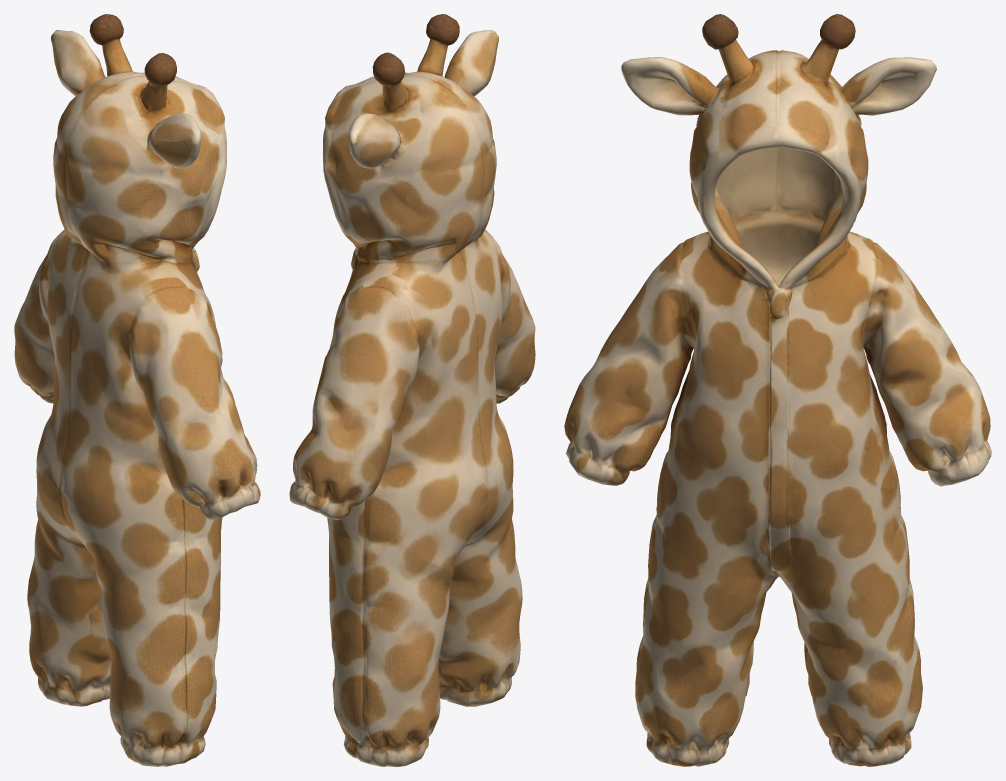
Rendered from kigurumi.glb.
3 views of the same model, side by side, from view 1: azimuth 30°, elevation 25°; view 2: azimuth 150°, elevation 25°; view 3: azimuth 270°, elevation 25° (orthographic). The views are drawn at different scales.
Visible parts, largest first — view 1: tripo_node_f7889c48-a6f0-41ac-8ee9-598b0030f9a1; view 2: tripo_node_f7889c48-a6f0-41ac-8ee9-598b0030f9a1; view 3: tripo_node_f7889c48-a6f0-41ac-8ee9-598b0030f9a1.
Part boxes in pixels (x1=…): tripo_node_f7889c48-a6f0-41ac-8ee9-598b0030f9a1: x1=14, y1=14, x2=260, y2=766; tripo_node_f7889c48-a6f0-41ac-8ee9-598b0030f9a1: x1=289, y1=14, x2=535, y2=766; tripo_node_f7889c48-a6f0-41ac-8ee9-598b0030f9a1: x1=564, y1=14, x2=991, y2=766.
Bounding box in the file's own units: 0.2343 × 1 × 0.5203.
Materials: 1 (1 with a texture image).
